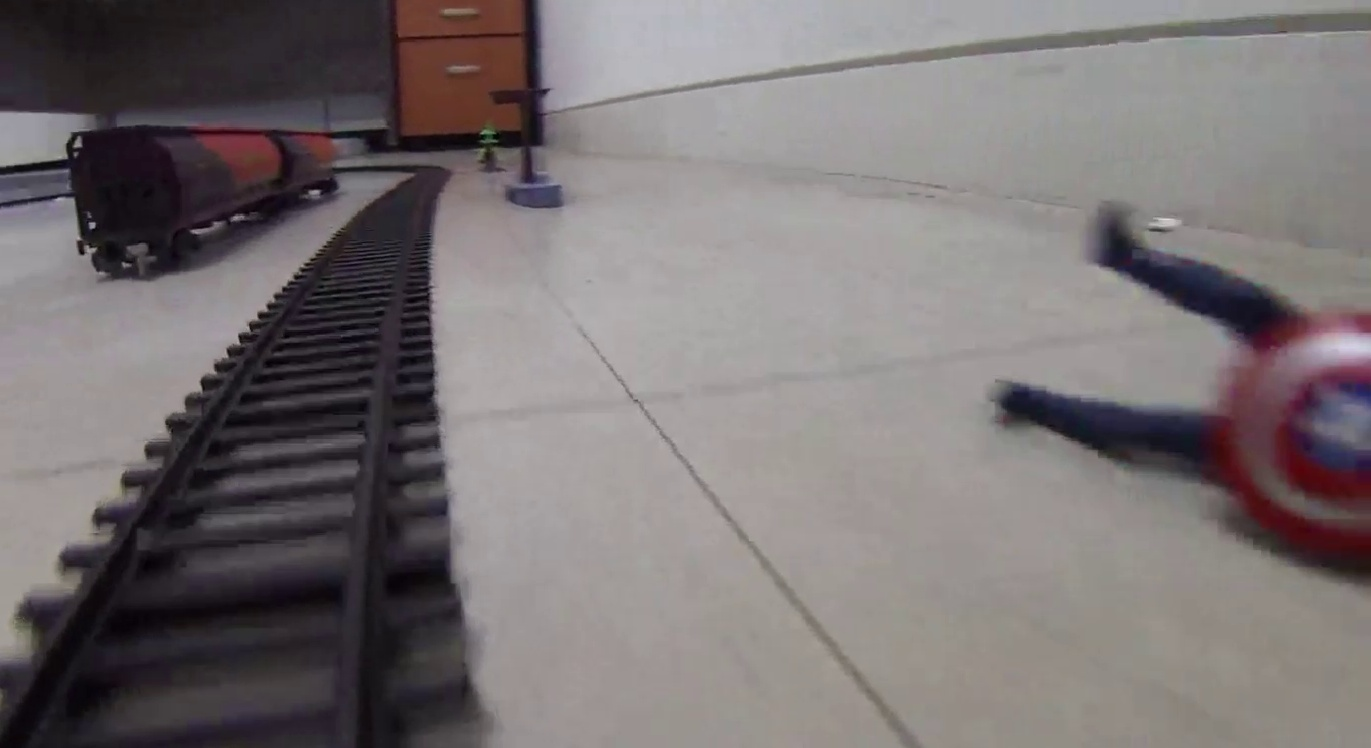people: (1000, 205, 1348, 542)
